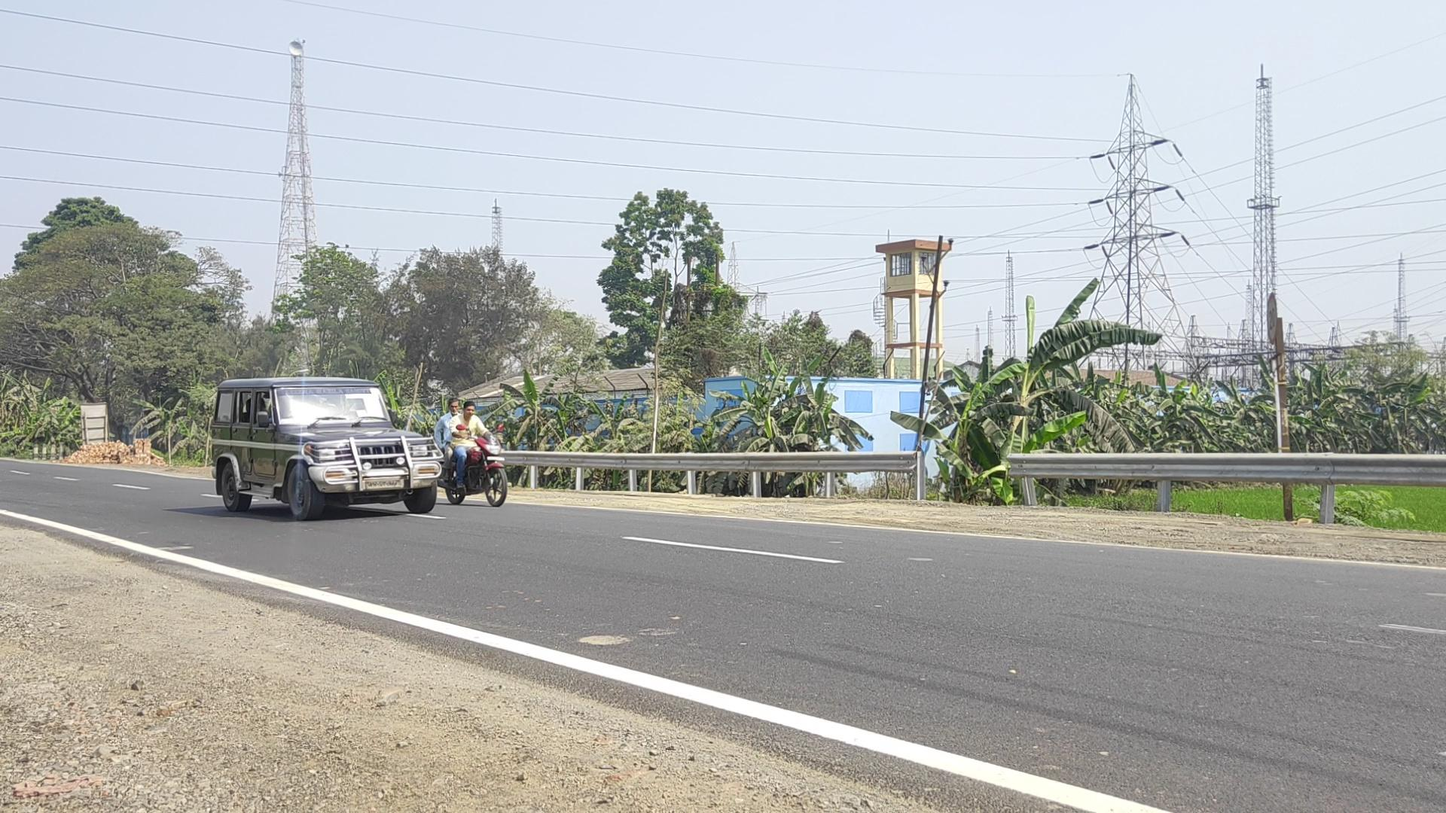bike: (435, 397, 508, 507)
car: (209, 376, 444, 521)
